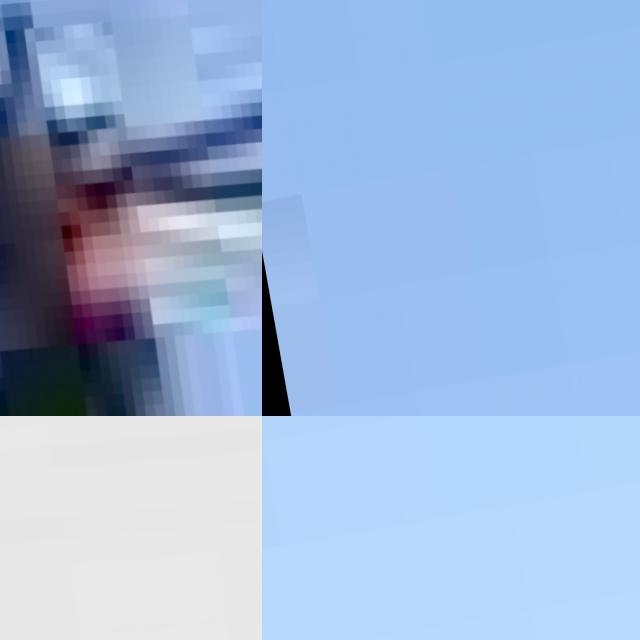0: (0, 0, 262, 416)
drone: (0, 416, 262, 640)
